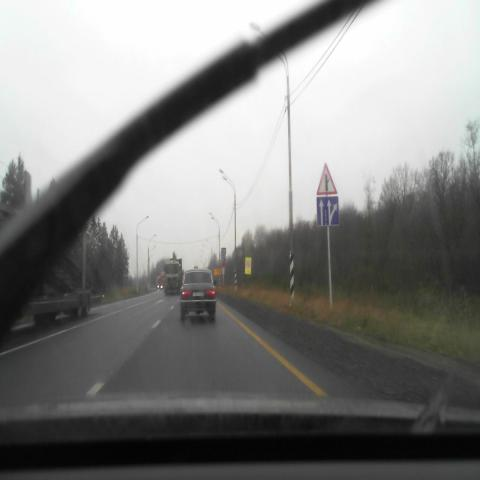2_3_4: (316, 162, 338, 194)
